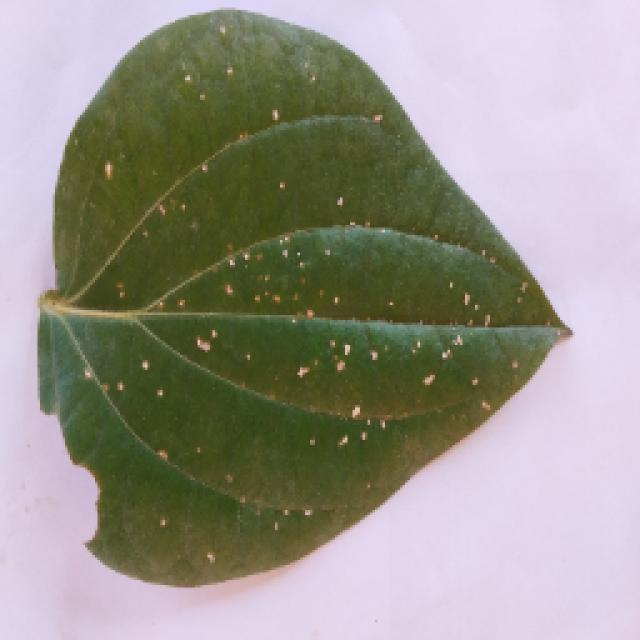pollu-disease: (25, 30, 580, 608)
